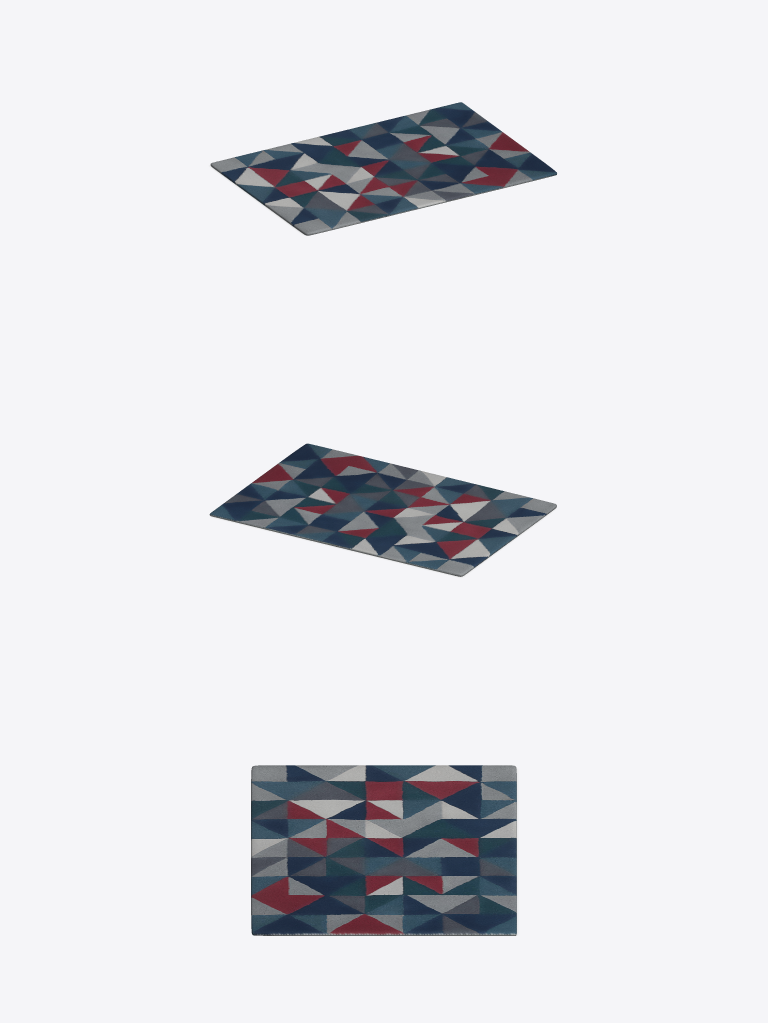
The picture shows the model from 3 angles, top to bottom: view 1: azimuth 30°, elevation 25°; view 2: azimuth 150°, elevation 25°; view 3: azimuth 270°, elevation 25°; orthographic projection. The views are drawn at different scales.
Parts seen in each view (by area): view 1: Henrik_Hand_Tufted_Wool_Rug_Grey_and_RedMulti_120x180cm_HENR; view 2: Henrik_Hand_Tufted_Wool_Rug_Grey_and_RedMulti_120x180cm_HENR, Plane001; view 3: Henrik_Hand_Tufted_Wool_Rug_Grey_and_RedMulti_120x180cm_HENR.
Part boxes in pixels (x1,y1,x2,y2): Henrik_Hand_Tufted_Wool_Rug_Grey_and_RedMulti_120x180cm_HENR: (210, 102, 556, 235); Henrik_Hand_Tufted_Wool_Rug_Grey_and_RedMulti_120x180cm_HENR: (209, 443, 556, 576); Plane001: (210, 507, 556, 577); Henrik_Hand_Tufted_Wool_Rug_Grey_and_RedMulti_120x180cm_HENR: (251, 765, 516, 935).
Size of the model in its own units: 445 by 2.9 by 445.
Materials: 2 (2 with a texture image).
